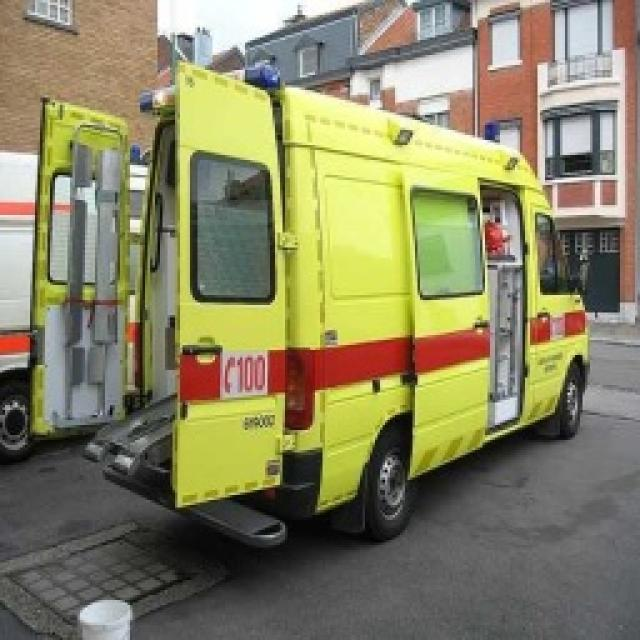emergency-vehicle: (0, 50, 598, 578)
